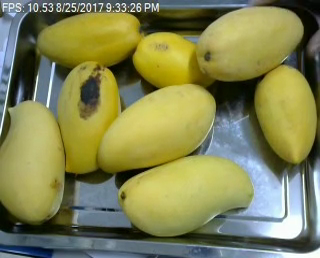Mango: (119, 154, 251, 235), (97, 85, 218, 172), (194, 6, 304, 81), (0, 101, 65, 219), (56, 62, 121, 175), (35, 10, 144, 68), (259, 62, 318, 162), (135, 30, 219, 92)
